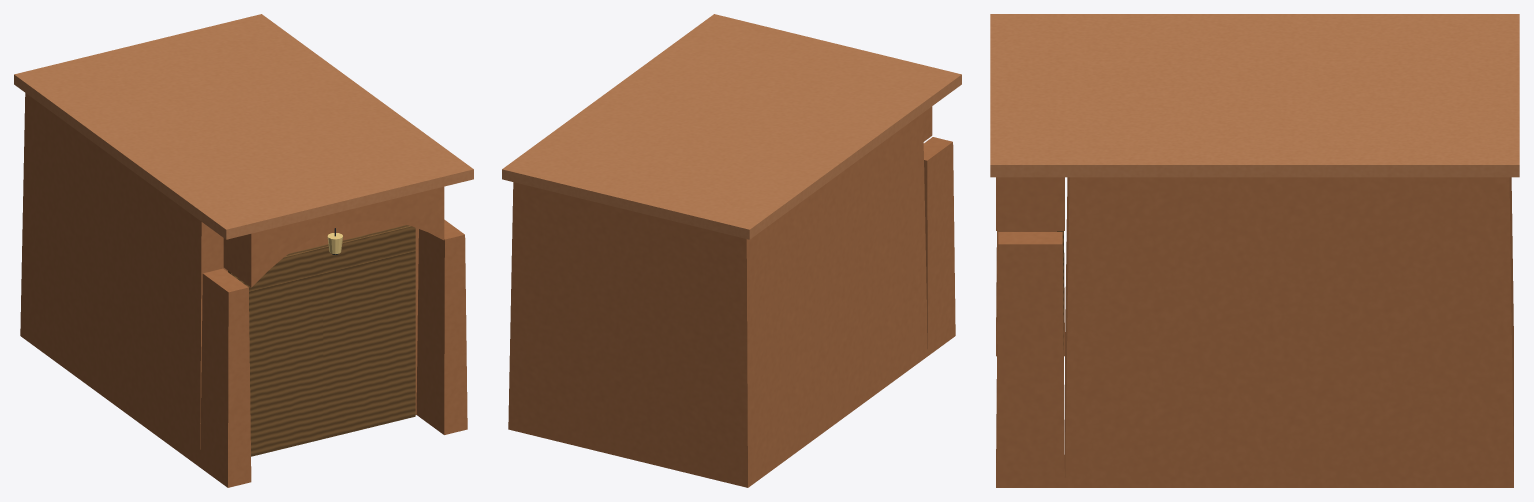
Rendered from SM_Souq_Stall_W3D45H30.fbx.
3 views of the same model, side by side, from view 1: azimuth 30°, elevation 25°; view 2: azimuth 150°, elevation 25°; view 3: azimuth 270°, elevation 25° (orthographic). The views are drawn at different scales.
Visible parts, largest first — view 1: SM_Souq_Stall_W3D45H30; view 2: SM_Souq_Stall_W3D45H30; view 3: SM_Souq_Stall_W3D45H30.
Boxes of the visible parts, x1,y1,x2,y2 form: SM_Souq_Stall_W3D45H30: (14, 14, 473, 487); SM_Souq_Stall_W3D45H30: (502, 14, 961, 487); SM_Souq_Stall_W3D45H30: (990, 14, 1519, 487).
Size of the model in its own units: 310 by 312 by 460.
5 materials, 5 textured.
